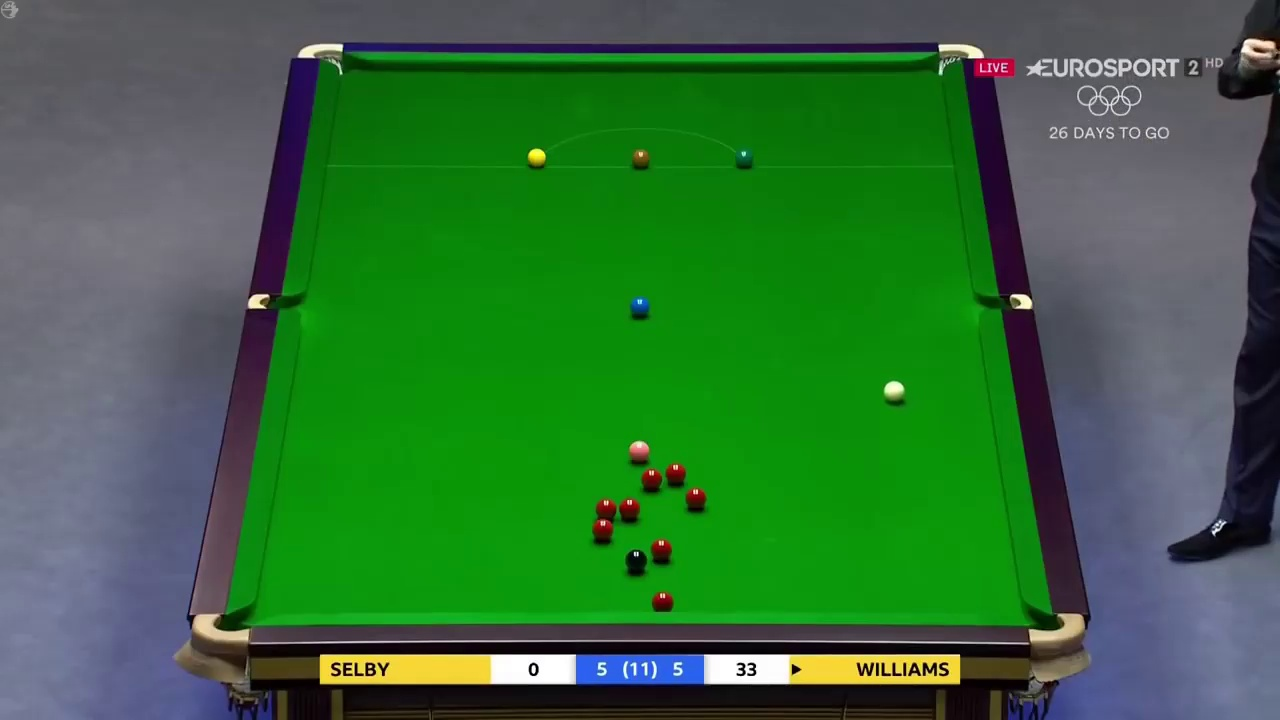ball: (881, 381, 909, 405), (649, 539, 677, 562), (618, 497, 642, 522), (666, 458, 685, 489), (627, 442, 651, 464), (640, 469, 662, 492), (525, 147, 548, 168), (624, 550, 645, 572), (684, 488, 706, 509), (593, 518, 613, 541), (631, 296, 650, 317), (632, 150, 650, 171), (736, 149, 752, 166)
